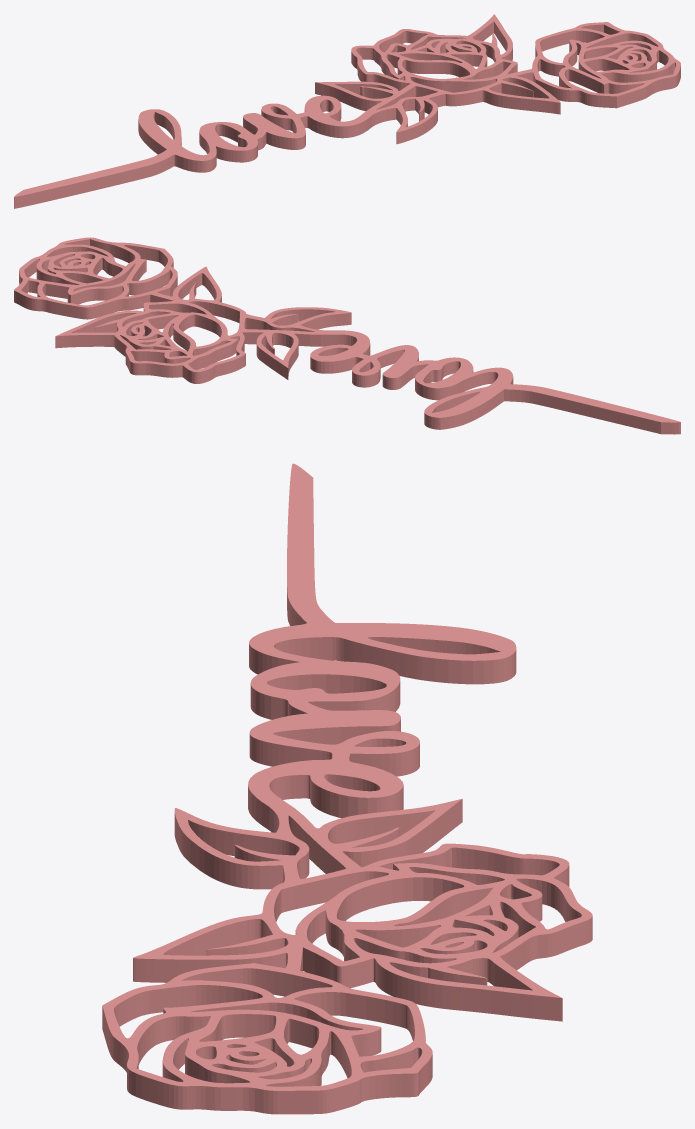
File: valentine_rose.glb
3 views of the same model, one above another, from view 1: azimuth 30°, elevation 25°; view 2: azimuth 150°, elevation 25°; view 3: azimuth 270°, elevation 25° (orthographic). The views are drawn at different scales.
Visible parts, largest first — view 1: imagetostl_mesh0; view 2: imagetostl_mesh0; view 3: imagetostl_mesh0.
Boxes of the visible parts, x1,y1,x2,y2 form: imagetostl_mesh0: [14, 14, 680, 208]; imagetostl_mesh0: [14, 237, 680, 434]; imagetostl_mesh0: [102, 463, 592, 1114].
Bounding box in the file's own units: 229 × 4 × 75.63.
